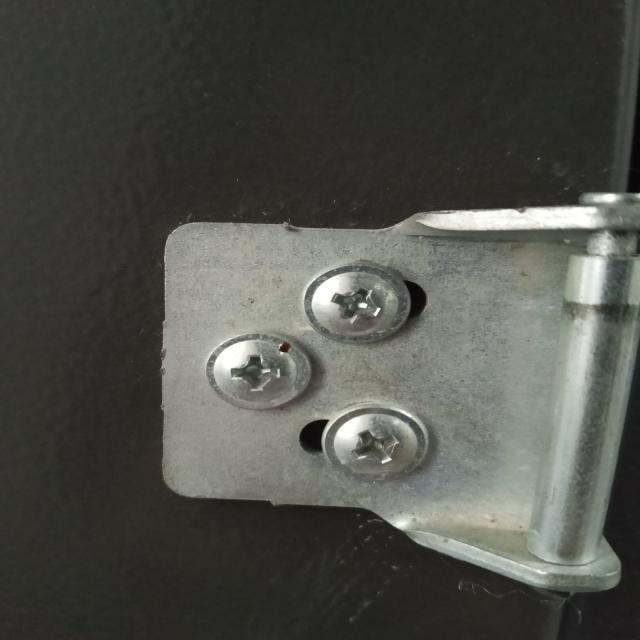phillips: (303, 261, 410, 343), (321, 401, 430, 479), (206, 332, 311, 412)
